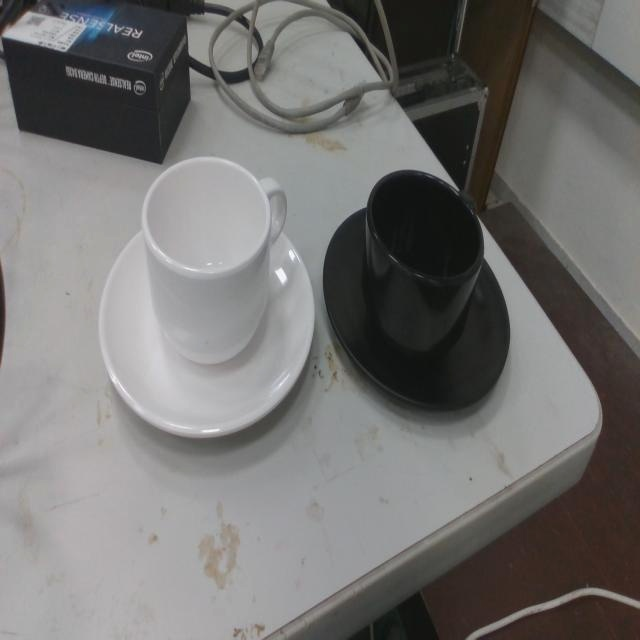black: (321, 167, 512, 421)
white: (95, 152, 318, 448)
